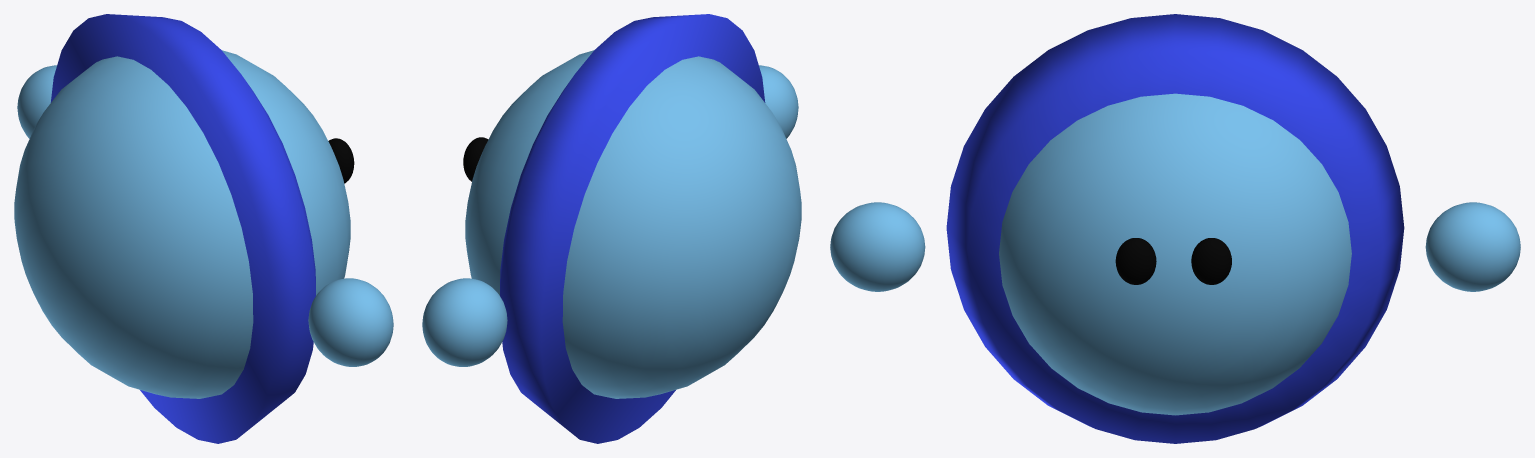
The model's file is bolita.fbx.
The picture shows the model from 3 angles, left to right: view 1: azimuth 30°, elevation 25°; view 2: azimuth 150°, elevation 25°; view 3: azimuth 270°, elevation 25°; orthographic projection. The views are drawn at different scales.
Parts seen in each view (by area): view 1: Esfera.001; view 2: Esfera.001; view 3: Esfera.001.
Boxes of the visible parts, bbox=[...] form: Esfera.001: bbox=[14, 14, 393, 443]; Esfera.001: bbox=[422, 14, 801, 443]; Esfera.001: bbox=[830, 14, 1520, 443].
Bounding box in the file's own units: 150 × 199 × 302.
